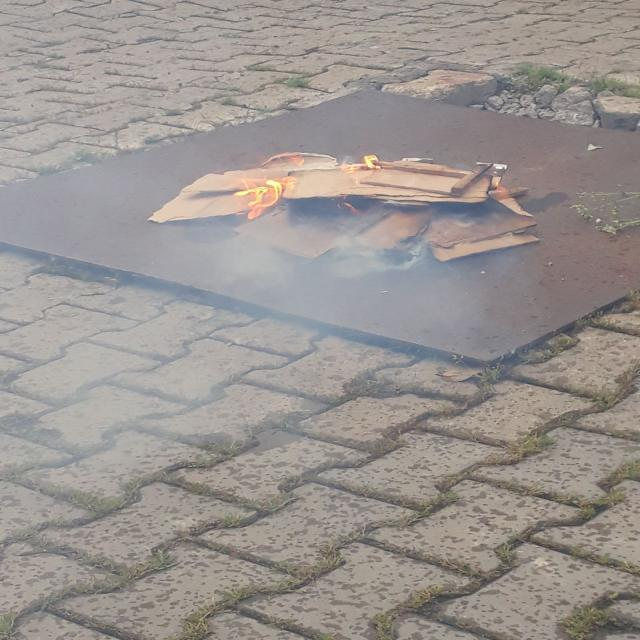fire: (204, 135, 451, 220)
